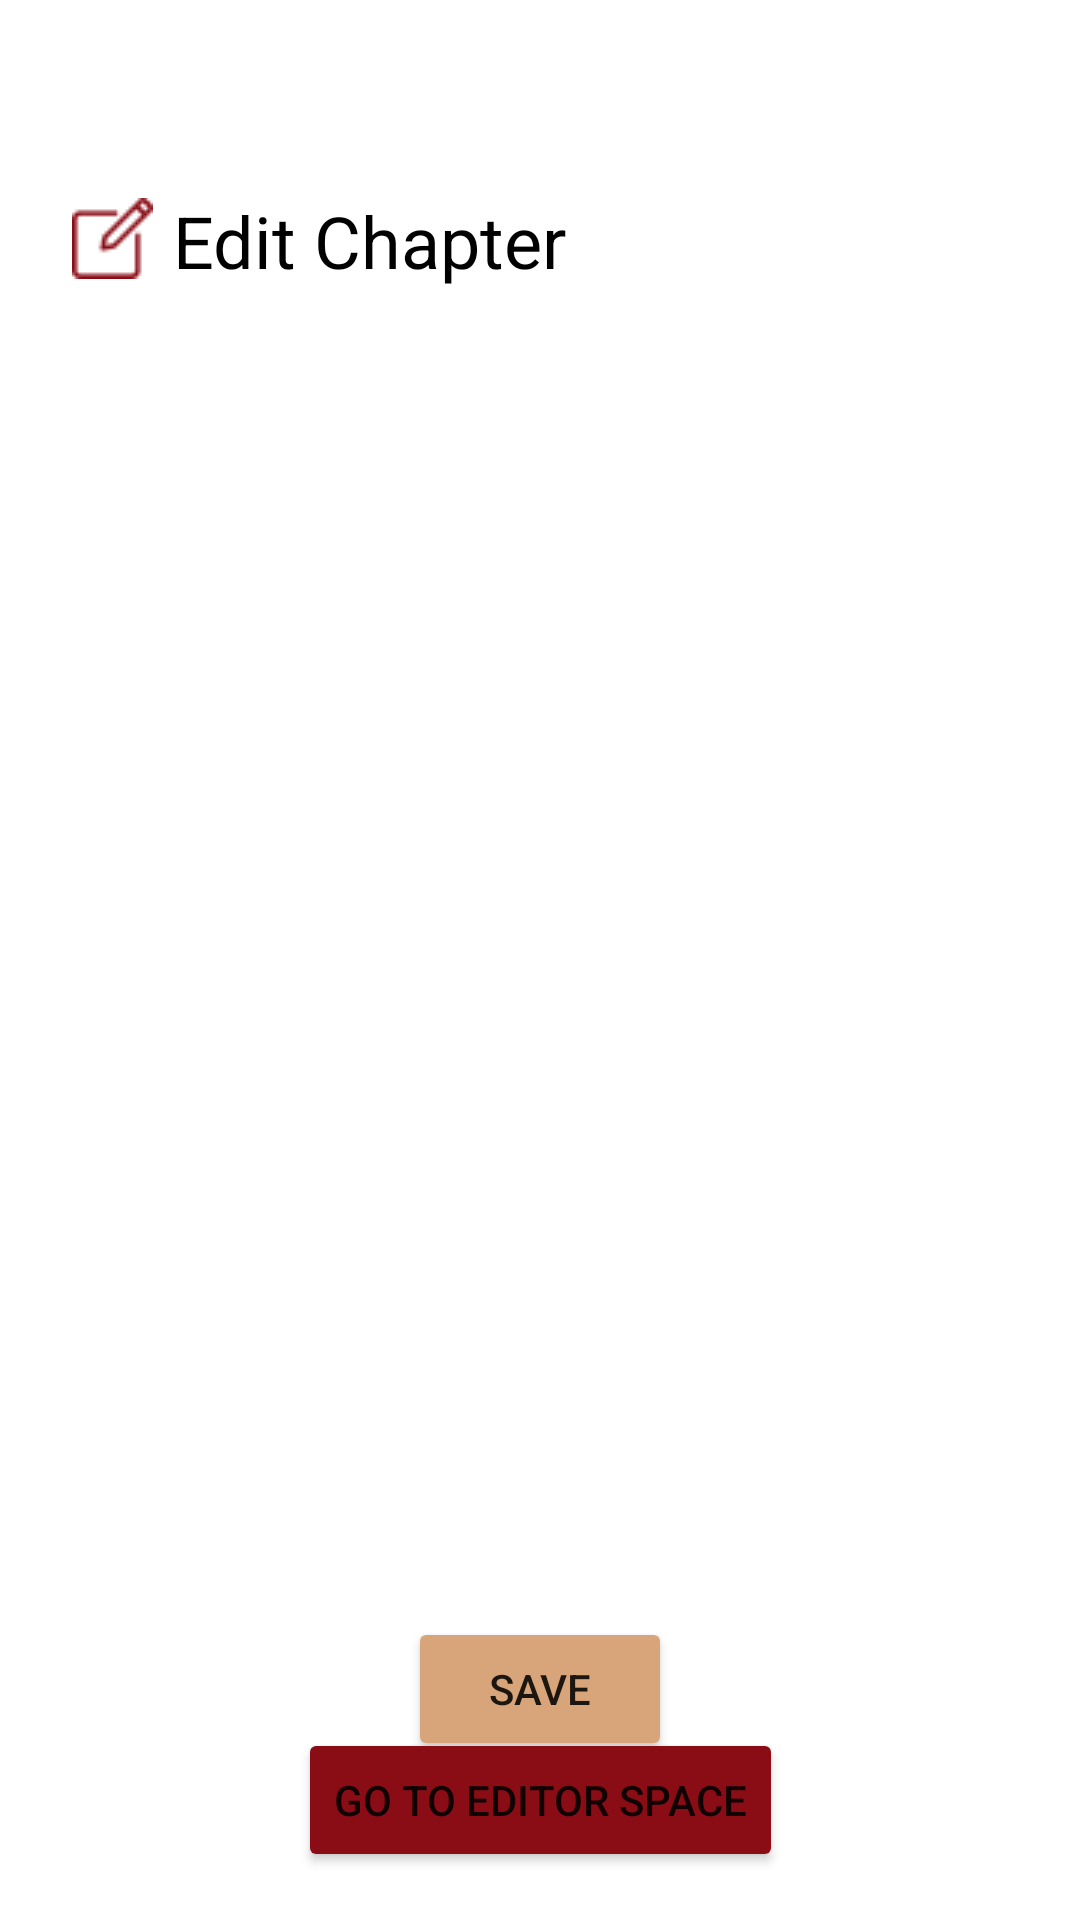

Icon click points for this 1080 x 1920 phone screenshot, format point (x, y):
editbookicon: point (112, 238)
